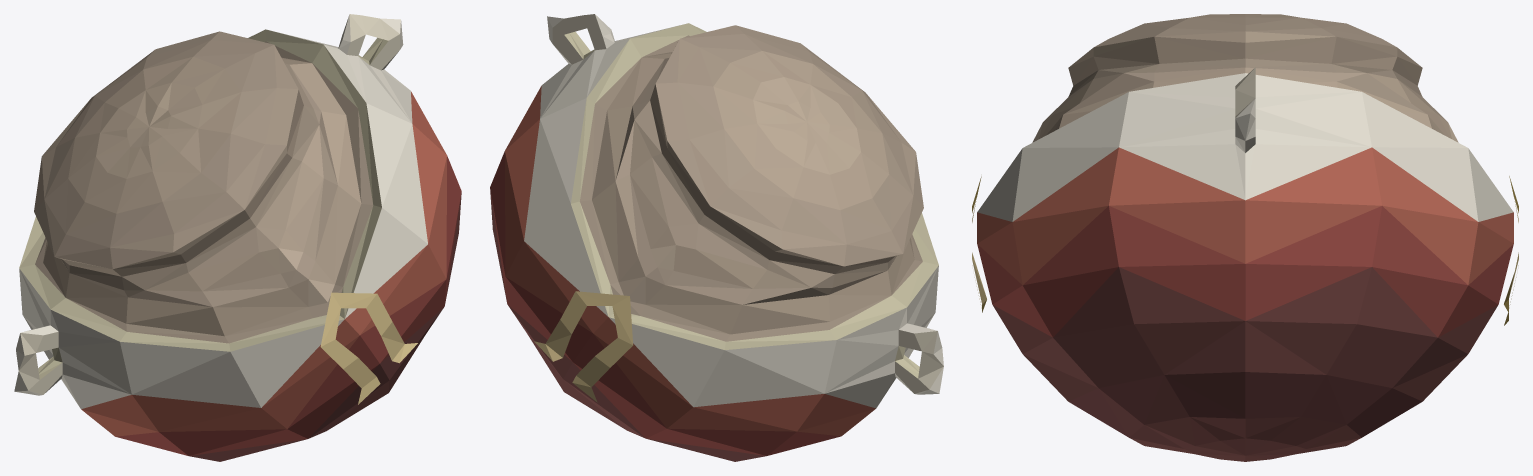
Rendered from zebak_jug.glb.
The picture shows the model from 3 angles, left to right: view 1: azimuth 30°, elevation 25°; view 2: azimuth 150°, elevation 25°; view 3: azimuth 270°, elevation 25°; orthographic projection. The views are drawn at different scales.
Bounding box in the file's own units: 109 × 98.02 × 108.
1 material, 1 textured.
